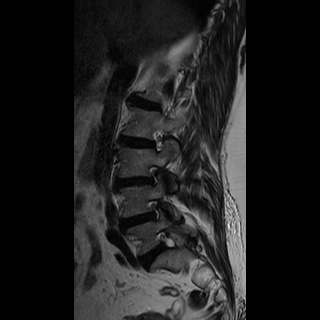RFS0: (145, 123, 175, 154)
RFS1: (140, 194, 169, 225)
RFS2: (142, 159, 166, 190)
